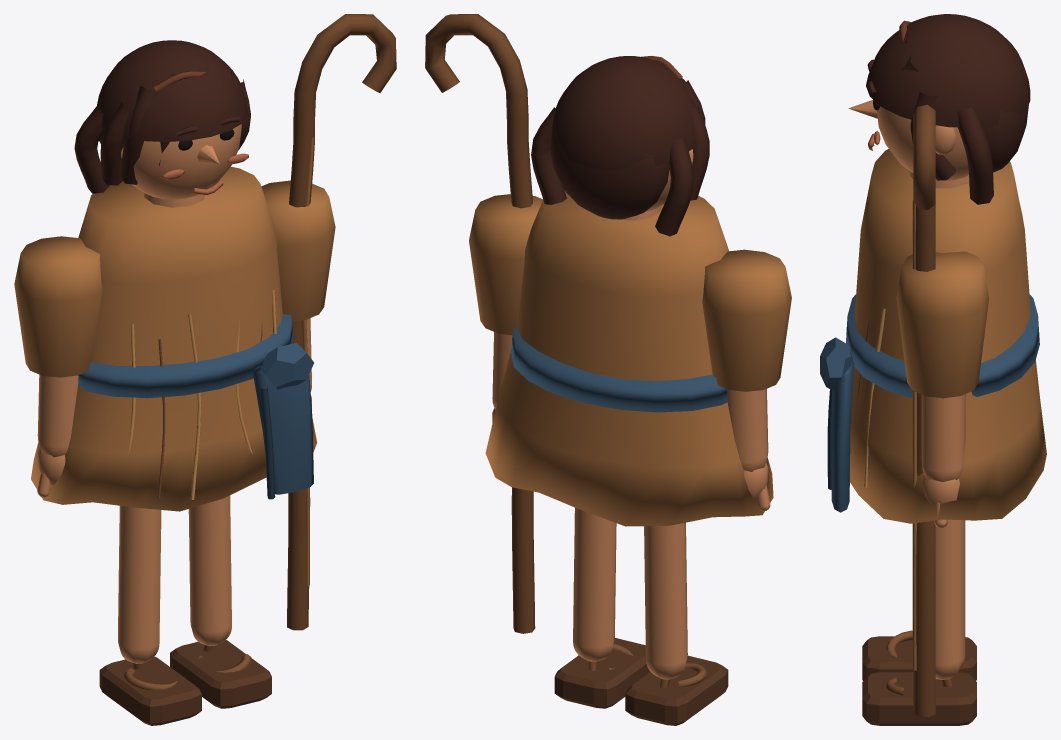
The model's file is david.glb.
3 renders of one model, left to right at view 1: azimuth 30°, elevation 25°; view 2: azimuth 150°, elevation 25°; view 3: azimuth 270°, elevation 25°, orthographic. The views are drawn at different scales.
Parts seen in each view (by area): view 1: tunic, sleeve (×2), swept-hair, sash, calf (×2), crook-staff, sandal-sole (×2), face, forearm, tunic-fold-highlights, sash-edge, hand (+1 smaller); view 2: tunic, swept-hair, sleeve (×2), calf (×2), crook-staff, sandal-sole (×2), sash, forearm (×2), hand; view 3: tunic, swept-hair, sleeve, sash, crook-staff, sandal-sole (×2), calf, forearm, face, staff-highlight, hand, tunic-fold-highlights (+1 smaller).
Part boxes in pixels (x1,y1,x2,y2): tunic: (31, 166, 317, 511); sleeve (×2): (14, 180, 335, 377); swept-hair: (74, 40, 250, 193); sash: (78, 314, 313, 494); calf (×2): (118, 495, 231, 663); crook-staff: (287, 14, 396, 630); sandal-sole (×2): (99, 640, 271, 725); face: (121, 124, 241, 199); forearm: (37, 374, 78, 457); tunic-fold-highlights: (128, 289, 276, 499); sash-edge: (260, 387, 275, 499); hand: (37, 448, 65, 497); tunic: (485, 190, 773, 526); swept-hair: (531, 56, 709, 236); sleeve (×2): (469, 194, 791, 391); calf (×2): (573, 507, 687, 679); crook-staff: (425, 14, 535, 633); sandal-sole (×2): (554, 638, 728, 725); sash: (511, 328, 727, 412); forearm (×2): (492, 332, 768, 471); hand: (744, 462, 770, 511); tunic: (850, 149, 1046, 523); swept-hair: (866, 14, 1030, 204); sleeve: (896, 251, 989, 398); sash: (820, 294, 1039, 512); crook-staff: (913, 105, 935, 717); sandal-sole (×2): (862, 636, 976, 725); calf: (935, 519, 965, 679); forearm: (921, 394, 965, 481); face: (848, 100, 968, 180); staff-highlight: (912, 200, 916, 670); hand: (922, 475, 959, 528); tunic-fold-highlights: (856, 297, 885, 487).
Bounding box in the file's own units: 1.25 × 2.08 × 0.6359.
